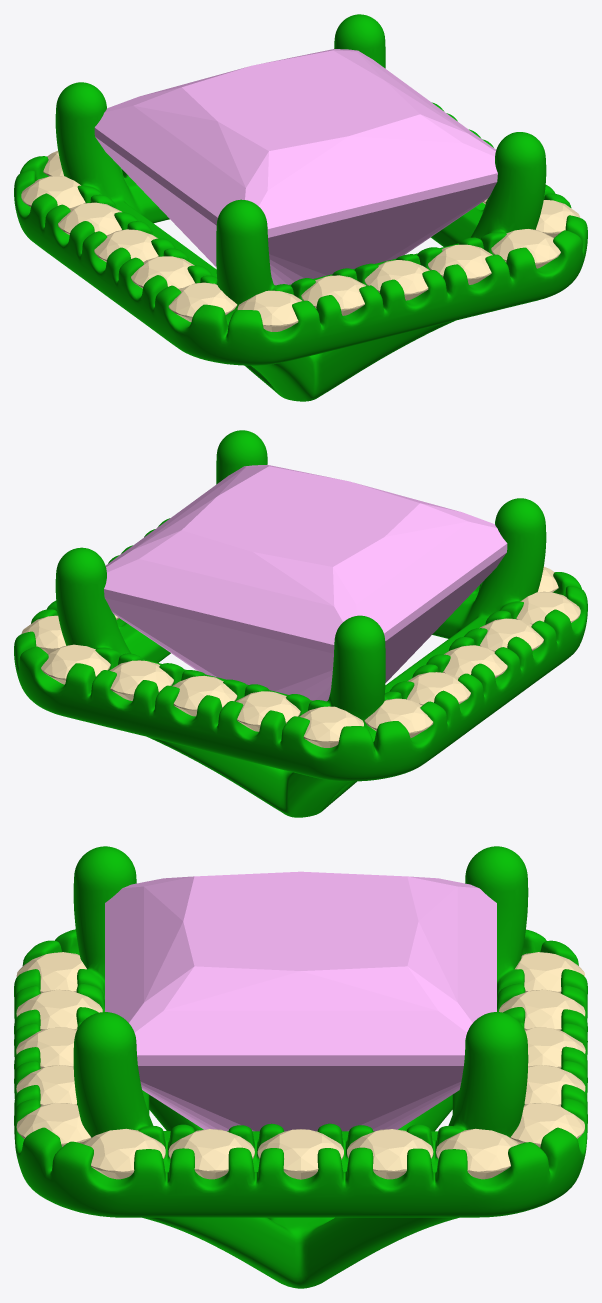
3 views of the same model, one above another, from view 1: azimuth 30°, elevation 25°; view 2: azimuth 150°, elevation 25°; view 3: azimuth 270°, elevation 25° (orthographic). The views are drawn at different scales.
Visible parts, largest first — view 1: Diamond_Princess, Metal01, Diamond_Round.009, Diamond_Round.018, Diamond_Round.011, Diamond_Round.019, Diamond_Round.010, Diamond_Round.015, Diamond_Round.014, Diamond_Round, Diamond_Round.001, Diamond_Round.002 (+1 smaller); view 2: Diamond_Princess, Metal01, Diamond_Round.006, Diamond_Round.017, Diamond_Round.002, Diamond_Round.008, Diamond_Round.016, Diamond_Round.007, Diamond_Round.001, Diamond_Round.014, Diamond_Round, Diamond_Round.015 (+1 smaller); view 3: Diamond_Princess, Metal01, Diamond_Round.003, Diamond_Round.012, Diamond_Round.005, Diamond_Round.013, Diamond_Round.004, Diamond_Round.010, Diamond_Round.007, Diamond_Round.016, Diamond_Round.019, Diamond_Round.006 (+5 smaller).
Part boxes in pixels (left/top/right/bottom): Diamond_Princess: left=94, top=49, right=497, bottom=285; Metal01: left=14, top=14, right=587, bottom=401; Diamond_Round.009: left=237, top=290, right=301, bottom=331; Diamond_Round.018: left=428, top=244, right=492, bottom=284; Diamond_Round.011: left=364, top=260, right=429, bottom=300; Diamond_Round.019: left=491, top=229, right=560, bottom=268; Diamond_Round.010: left=301, top=275, right=365, bottom=315; Diamond_Round.015: left=168, top=282, right=237, bottom=321; Diamond_Round.014: left=131, top=256, right=194, bottom=289; Diamond_Round: left=94, top=229, right=158, bottom=262; Diamond_Round.001: left=58, top=202, right=121, bottom=235; Diamond_Round.002: left=21, top=176, right=85, bottom=208; Diamond_Princess: left=104, top=464, right=507, bottom=701; Metal01: left=14, top=430, right=587, bottom=817; Diamond_Round.006: left=299, top=706, right=363, bottom=747; Diamond_Round.017: left=109, top=660, right=173, bottom=700; Diamond_Round.002: left=364, top=698, right=433, bottom=738; Diamond_Round.008: left=172, top=675, right=237, bottom=716; Diamond_Round.016: left=41, top=644, right=110, bottom=684; Diamond_Round.007: left=236, top=691, right=300, bottom=731; Diamond_Round.001: left=407, top=672, right=470, bottom=705; Diamond_Round.014: left=479, top=618, right=543, bottom=651; Diamond_Round: left=443, top=645, right=507, bottom=677; Diamond_Round.015: left=516, top=591, right=580, bottom=624; Diamond_Princess: left=105, top=871, right=496, bottom=1131; Metal01: left=14, top=846, right=587, bottom=1288; Diamond_Round.003: left=436, top=1128, right=518, bottom=1179; Diamond_Round.012: left=83, top=1128, right=165, bottom=1179; Diamond_Round.005: left=257, top=1129, right=343, bottom=1179; Diamond_Round.013: left=168, top=1129, right=254, bottom=1179; Diamond_Round.004: left=347, top=1129, right=433, bottom=1179; Diamond_Round.010: left=16, top=989, right=102, bottom=1030; Diamond_Round.007: left=499, top=989, right=585, bottom=1030; Diamond_Round.016: left=510, top=1102, right=584, bottom=1147; Diamond_Round.019: left=16, top=1103, right=91, bottom=1146; Diamond_Round.006: left=515, top=952, right=584, bottom=992.
Bounding box in the file's own units: 11.63 × 8.03 × 11.64.
